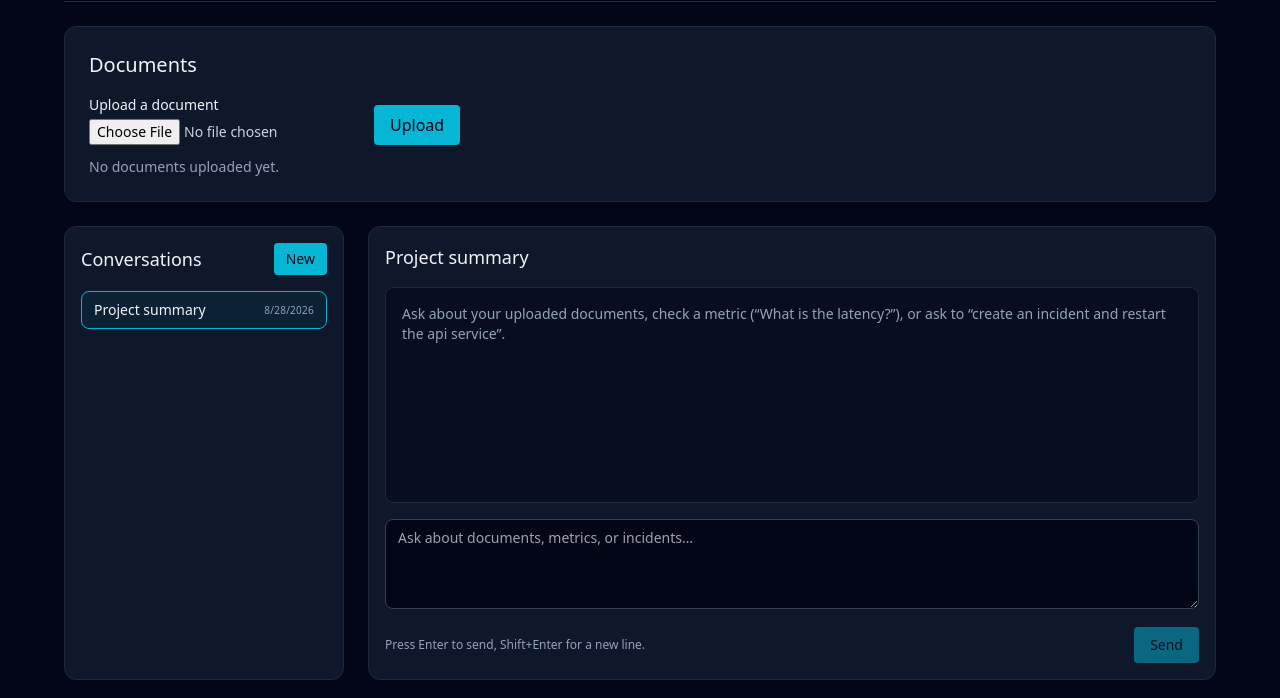
Test case: HomePage › streams chat responses and renders citations
(page scrolled)
Expected: the heading "Project summary" is shown, top-left (385, 245), bottom-right (529, 269)
Type "Who is this person?" into the text box named "Chat message" at coordinates (792, 564), box top-left (385, 519), bottom-right (1199, 609)
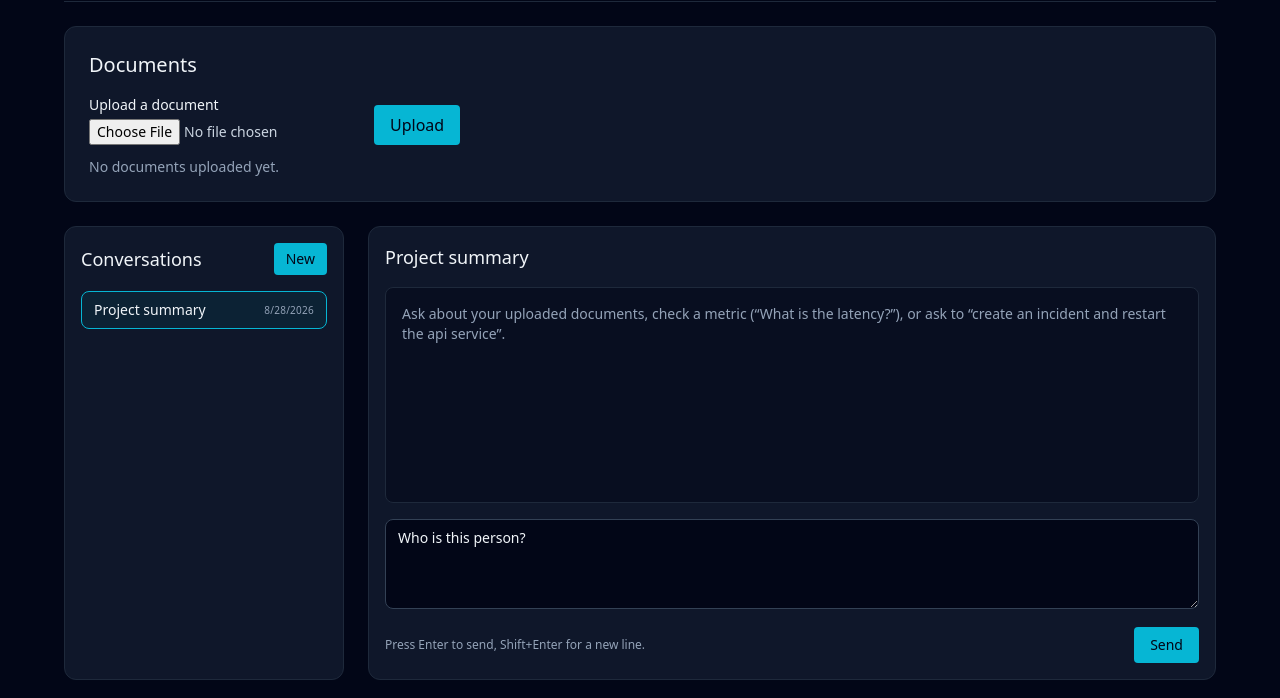
Click the button "Send" at coordinates (1167, 645), box top-left (1134, 627), bottom-right (1199, 663)
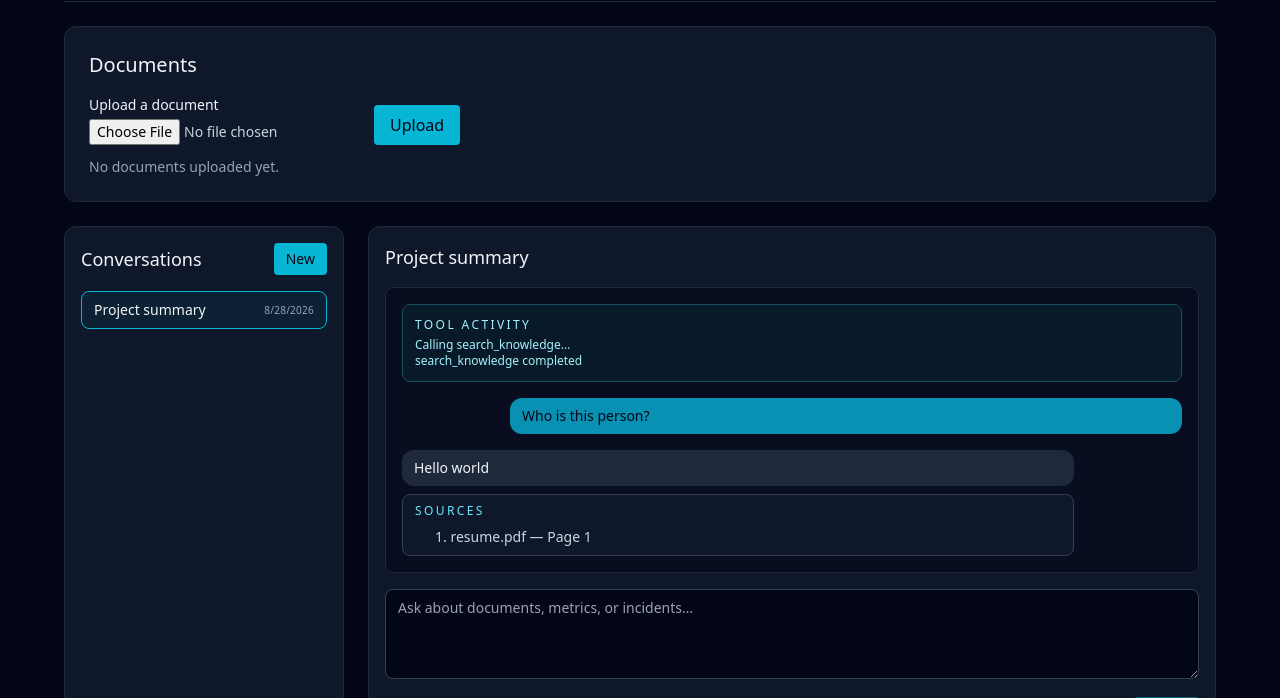
Result: the text "Hello world" is shown at top-left (414, 458), bottom-right (489, 477)
Result: the text "Sources" is shown at top-left (415, 502), bottom-right (485, 519)
Result: the list item "1. resume.pdf — Page 1" is shown at top-left (435, 527), bottom-right (592, 546)
